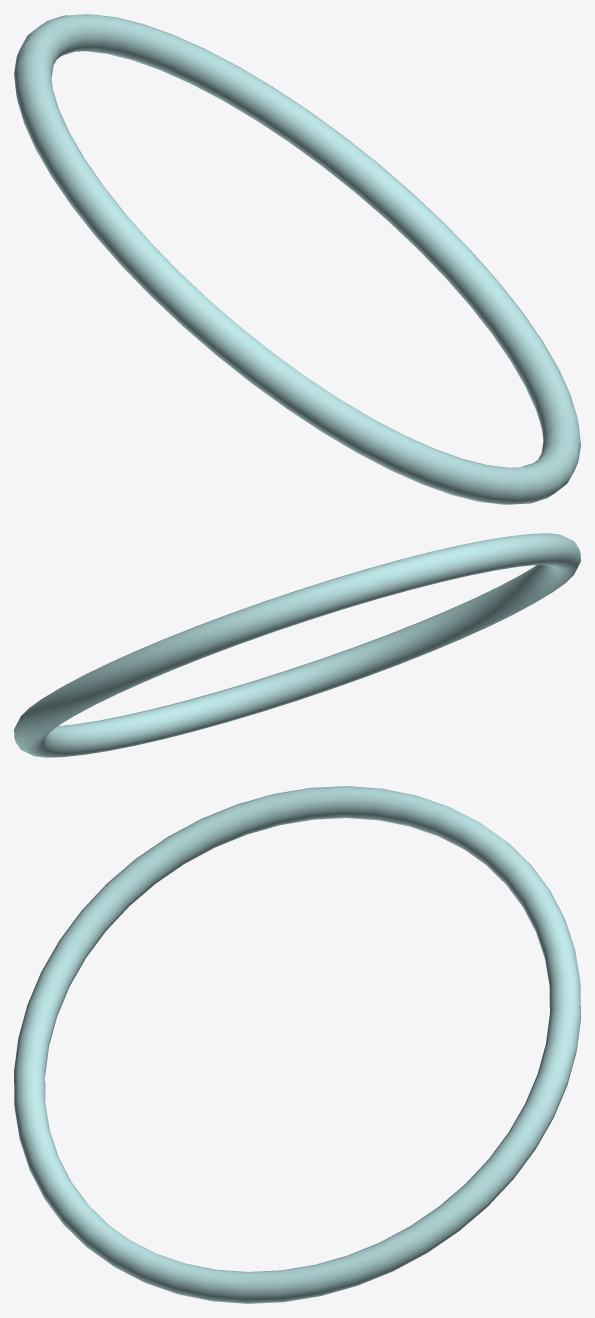
The model's file is sm_GoalOrb_2.fbx.
3 renders of one model, top to bottom at view 1: azimuth 30°, elevation 25°; view 2: azimuth 150°, elevation 25°; view 3: azimuth 270°, elevation 25°, orthographic. The views are drawn at different scales.
Parts seen in each view (by area): view 1: sm_GoalOrb.002; view 2: sm_GoalOrb.002; view 3: sm_GoalOrb.002.
Part boxes in pixels (x1,y1,x2,y2): sm_GoalOrb.002: [14, 14, 580, 504]; sm_GoalOrb.002: [14, 533, 580, 757]; sm_GoalOrb.002: [14, 786, 580, 1303].
Bounding box in the file's own units: 71.52 × 52.15 × 80.
